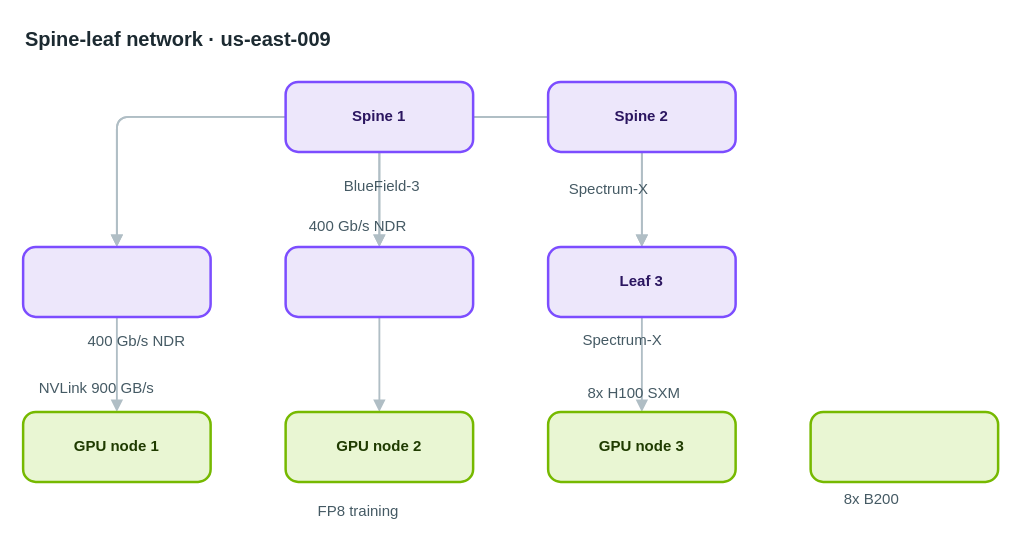
This 1020x543 diagram has some shape labels left out. Each missing label, with the centre of its shape:
"GPU node 4" goes at [904,446].
"Leaf 1" goes at [116,281].
"Leaf 2" goes at [379,281].
